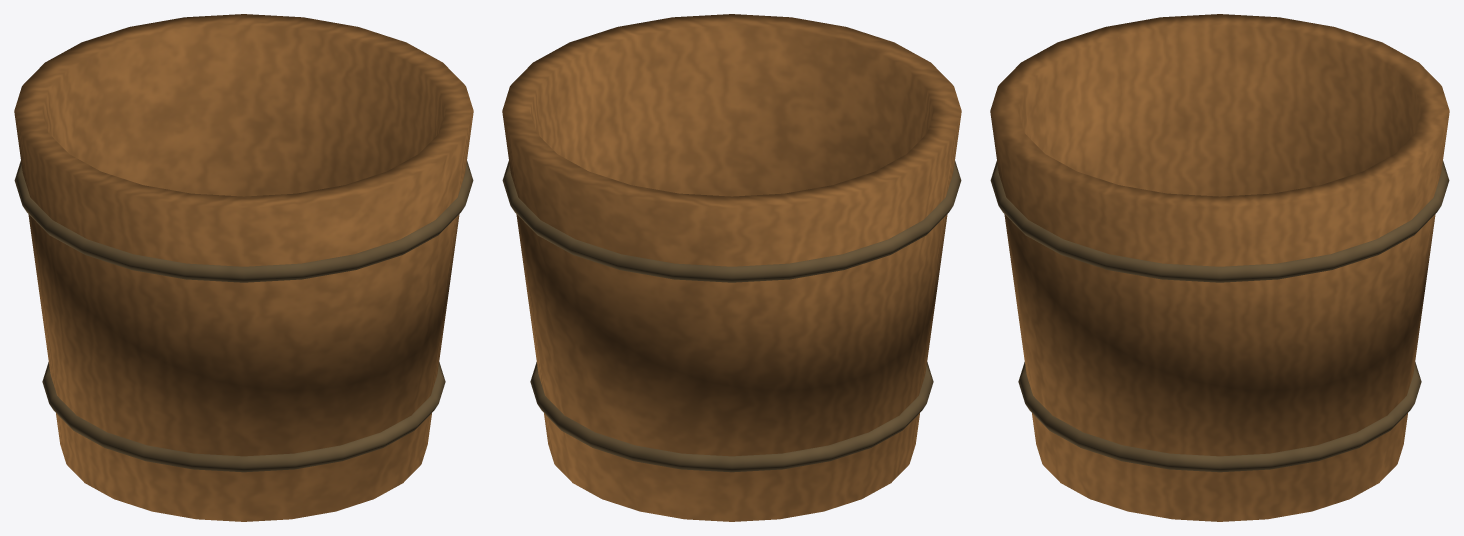
The model's file is Furn_WashBucket.fbx.
3 views of the same model, side by side, from view 1: azimuth 30°, elevation 25°; view 2: azimuth 150°, elevation 25°; view 3: azimuth 270°, elevation 25° (orthographic).
Parts seen in each view (by area): view 1: Furn_WashBucket_Mesh; view 2: Furn_WashBucket_Mesh; view 3: Furn_WashBucket_Mesh.
Boxes of the visible parts, <box> form: Furn_WashBucket_Mesh: <box>14,14,473,521</box>; Furn_WashBucket_Mesh: <box>502,14,961,521</box>; Furn_WashBucket_Mesh: <box>990,14,1449,521</box>.
Size of the model in its own units: 0.3 by 0.24 by 0.3.
Materials: 2 (2 with a texture image).
